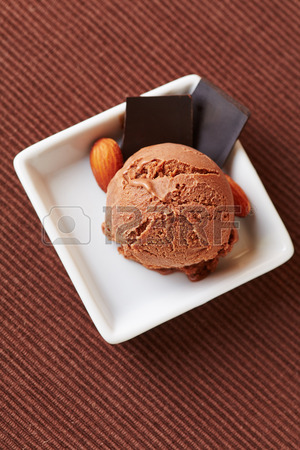ice-cream: (105, 144, 236, 274)
